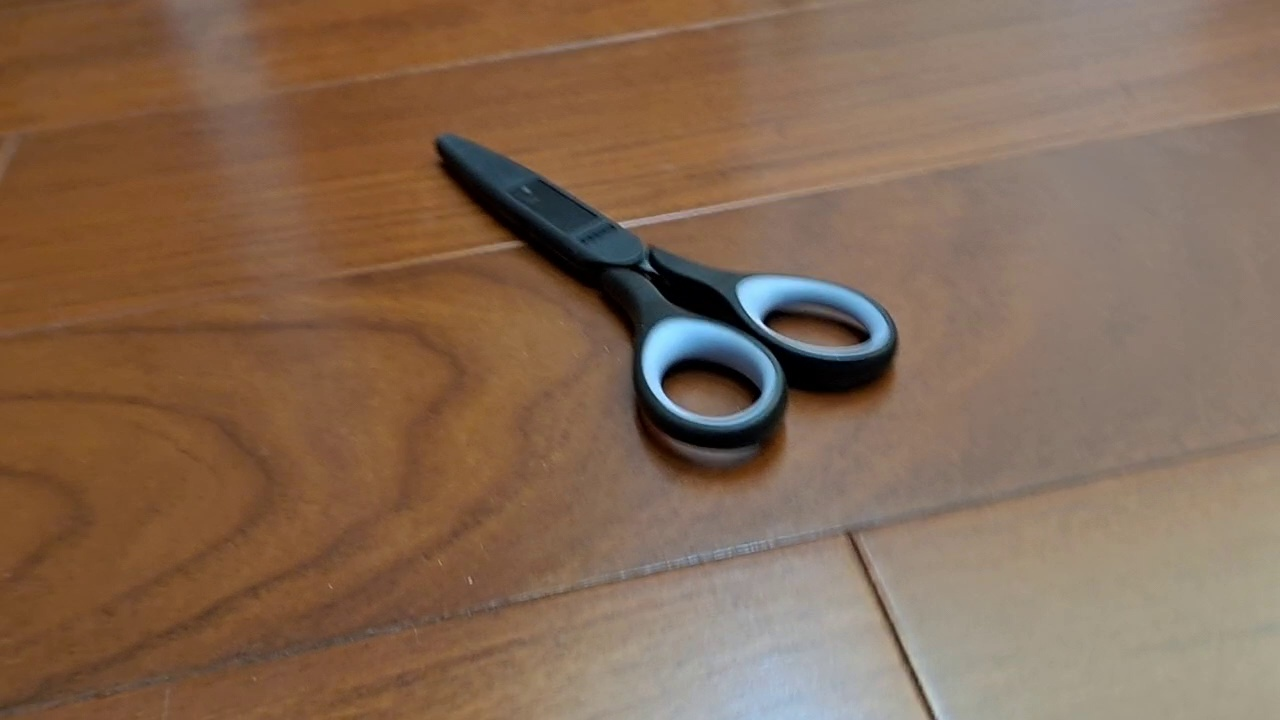scissors: (432, 131, 900, 451)
